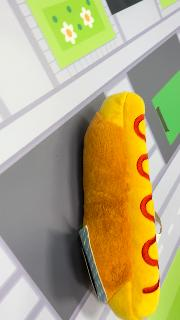hotdog: (78, 91, 162, 319)
